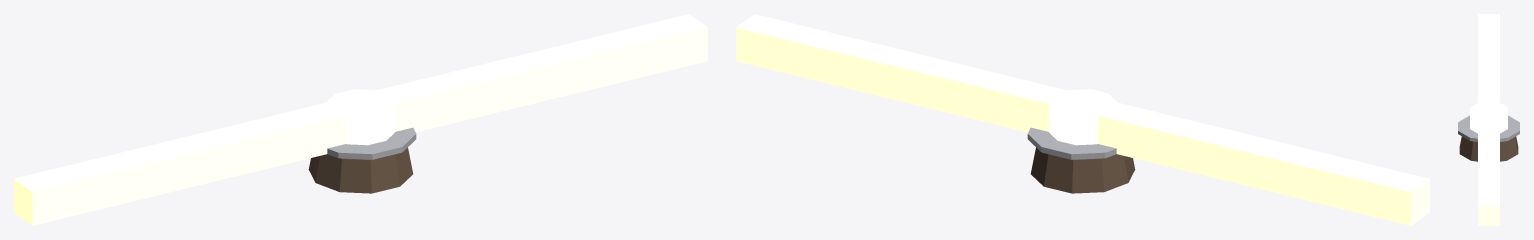
File: 11_beacon.glb
The picture shows the model from 3 angles, left to right: view 1: azimuth 30°, elevation 25°; view 2: azimuth 150°, elevation 25°; view 3: azimuth 270°, elevation 25°; orthographic projection. The views are drawn at different scales.
Visible parts, largest first — view 1: beacon_head_lamp_nocol, beacon_housing_irondark, beacon_head_beacon, beacon_housing_steel; view 2: beacon_head_lamp_nocol, beacon_housing_irondark, beacon_head_beacon, beacon_housing_steel; view 3: beacon_head_lamp_nocol, beacon_housing_irondark, beacon_head_beacon, beacon_housing_steel.
Boxes of the visible parts, box(x1,y1,x2,y2) form: beacon_head_lamp_nocol: box(14, 14, 707, 225); beacon_housing_irondark: box(308, 147, 413, 193); beacon_head_beacon: box(327, 89, 394, 145); beacon_housing_steel: box(327, 127, 416, 159); beacon_head_lamp_nocol: box(736, 14, 1429, 225); beacon_housing_irondark: box(1030, 147, 1135, 193); beacon_head_beacon: box(1049, 89, 1116, 145); beacon_housing_steel: box(1027, 127, 1116, 159); beacon_head_lamp_nocol: box(1478, 14, 1499, 225); beacon_housing_irondark: box(1459, 136, 1518, 161); beacon_head_beacon: box(1470, 103, 1507, 133); beacon_housing_steel: box(1458, 115, 1519, 141).
Size of the model in its own units: 50.4 by 4.9 by 6.85.
